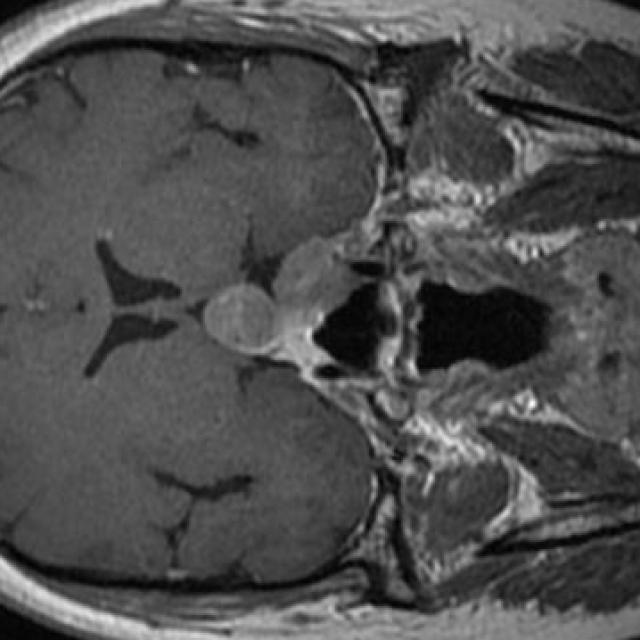pituitary: (201, 241, 360, 374)
